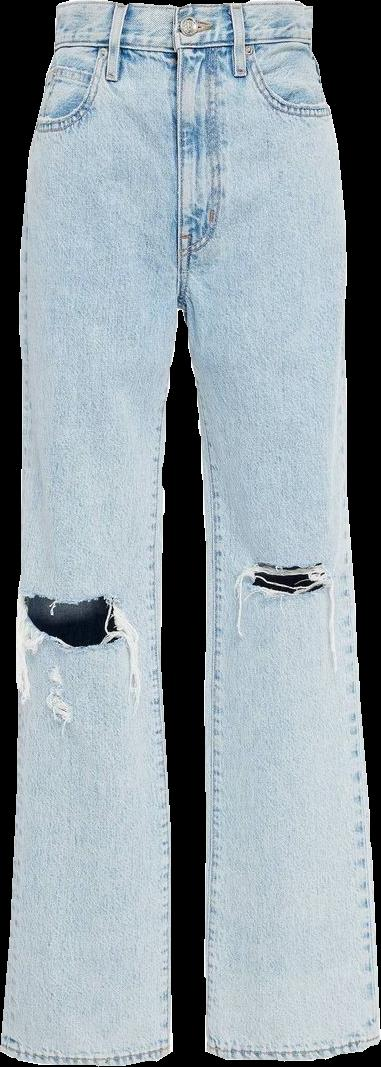Hemline: (203, 1029, 380, 1062), (0, 1038, 173, 1066)
Pantleg: (175, 0, 380, 1061), (1, 2, 176, 1064)
Waistline: (51, 36, 310, 58), (55, 0, 312, 19)
